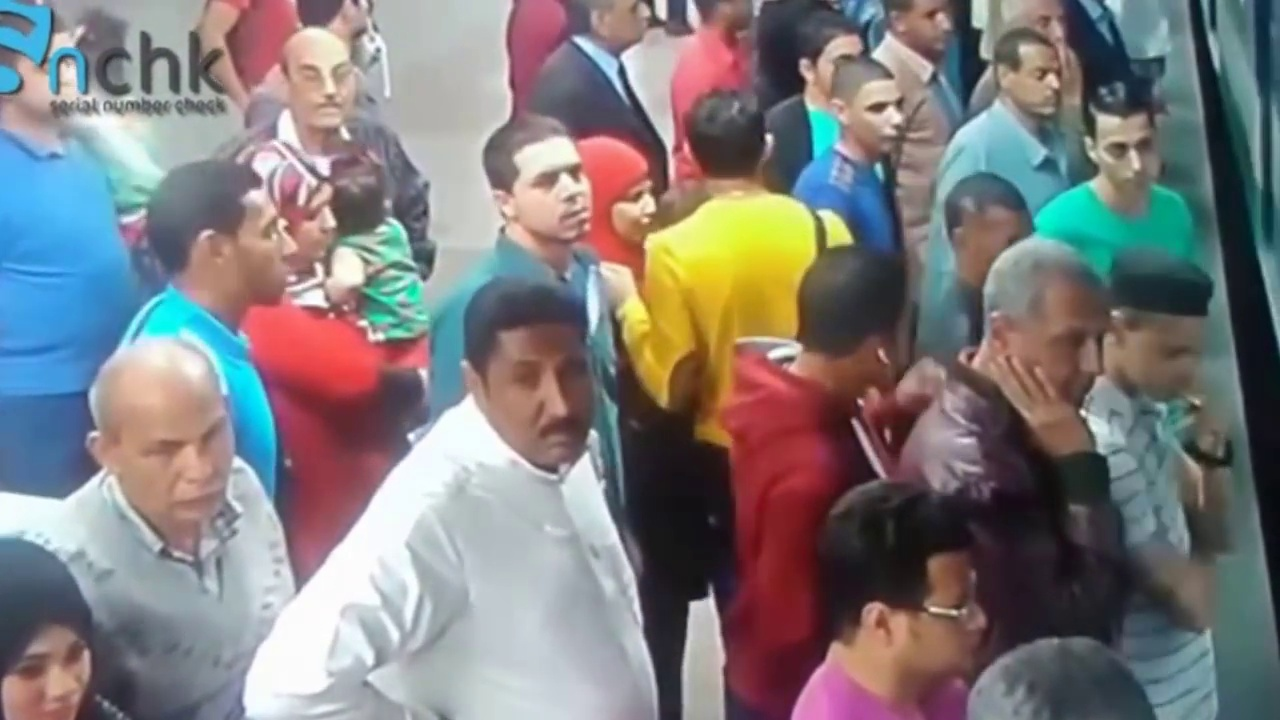face: (492, 337, 595, 469), (1020, 287, 1110, 419), (136, 417, 235, 515), (913, 546, 987, 668), (509, 148, 589, 238), (4, 641, 90, 720), (233, 203, 293, 301), (295, 50, 358, 136), (1091, 123, 1161, 192), (1012, 46, 1066, 117), (300, 188, 341, 280), (846, 92, 905, 155), (901, 6, 957, 56), (616, 182, 656, 249)
